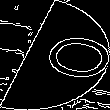O_W: (9, 26, 101, 84)
